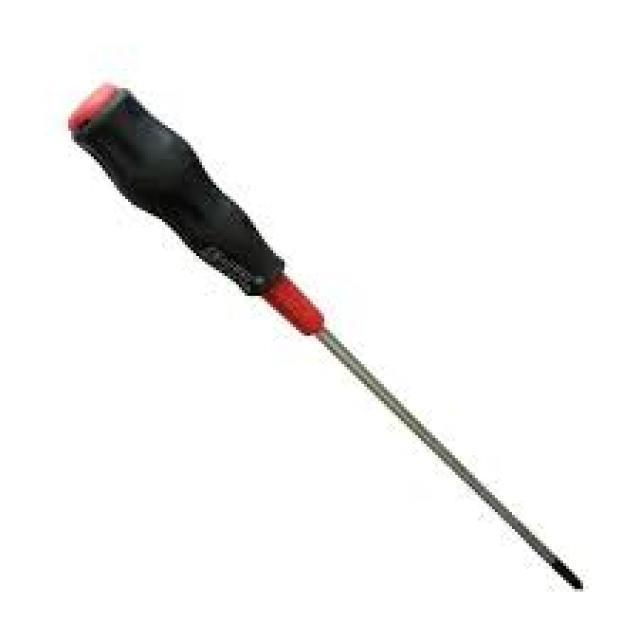screwdriver: (62, 80, 588, 598)
